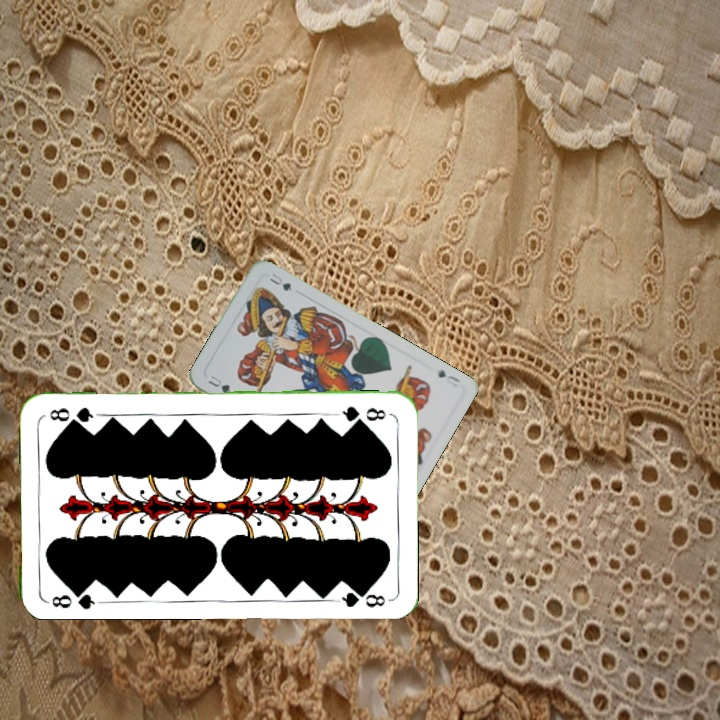G8: (43, 584, 102, 611), (332, 402, 388, 424)
GU: (204, 371, 234, 396), (434, 366, 462, 390)
